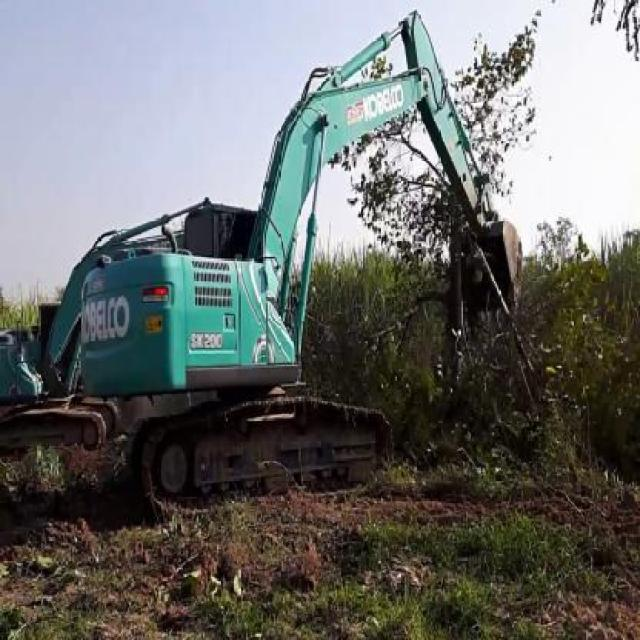excavator: (81, 2, 525, 516), (0, 213, 122, 453)
